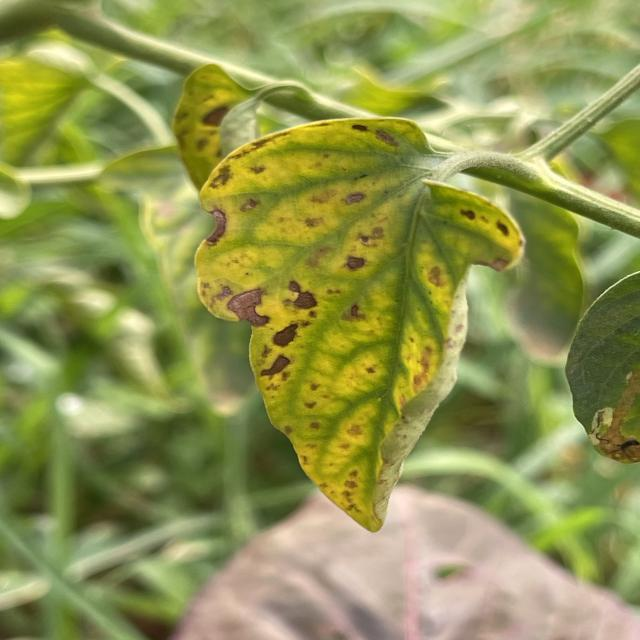tomato_early blight: (189, 105, 531, 532), (168, 57, 292, 192), (569, 263, 640, 459)
